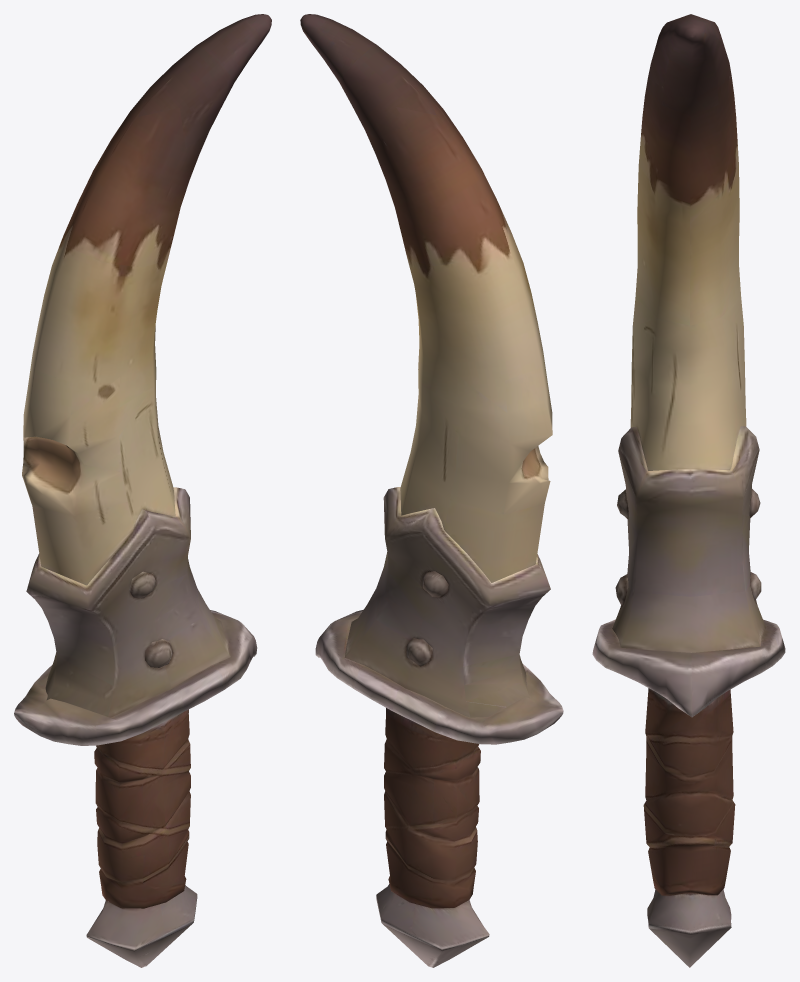
Rendered from sword_epic_tusk_ivory_jade.glb.
3 views of the same model, side by side, from view 1: azimuth 30°, elevation 25°; view 2: azimuth 150°, elevation 25°; view 3: azimuth 270°, elevation 25° (orthographic). The views are drawn at different scales.
Parts seen in each view (by area): view 1: tripo_node_a6824d5b-336c-4dd5-85bb-3302b9578223; view 2: tripo_node_a6824d5b-336c-4dd5-85bb-3302b9578223; view 3: tripo_node_a6824d5b-336c-4dd5-85bb-3302b9578223.
Boxes of the visible parts, x1,y1,x2,y2 form: tripo_node_a6824d5b-336c-4dd5-85bb-3302b9578223: (14, 14, 271, 967); tripo_node_a6824d5b-336c-4dd5-85bb-3302b9578223: (300, 14, 563, 967); tripo_node_a6824d5b-336c-4dd5-85bb-3302b9578223: (592, 14, 785, 967).
Size of the model in its own units: 0.5891 by 2 by 0.348.
Materials: 1 (1 with a texture image).
